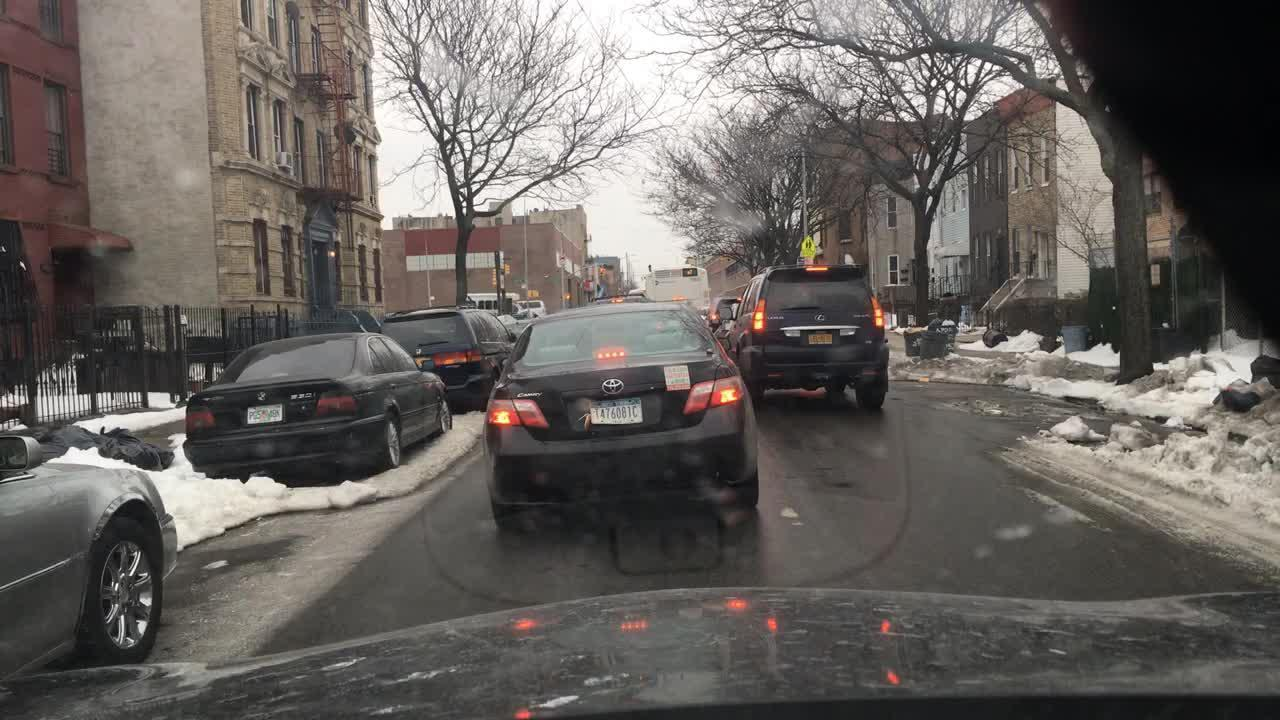Toyota: (592, 372, 636, 399)
bmw: (252, 388, 270, 403)
lexus: (807, 309, 832, 326)
